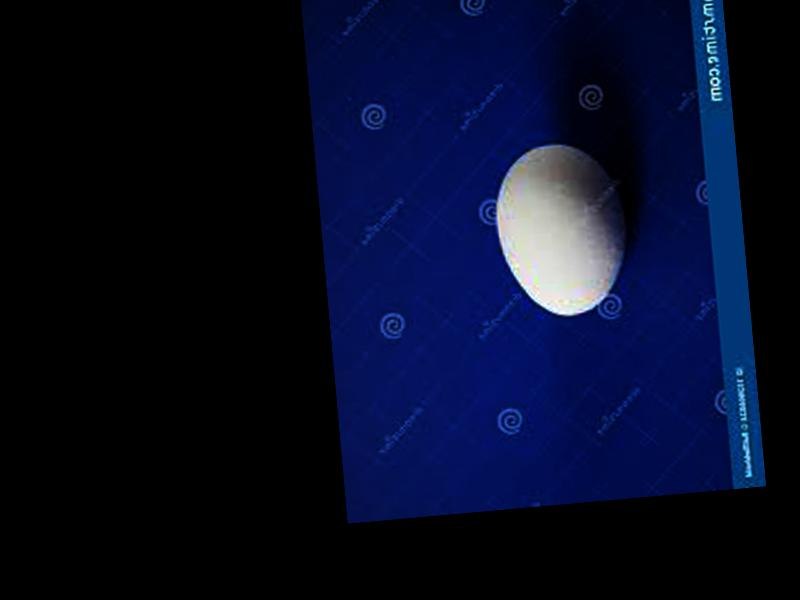Eggs: (491, 137, 633, 322)
